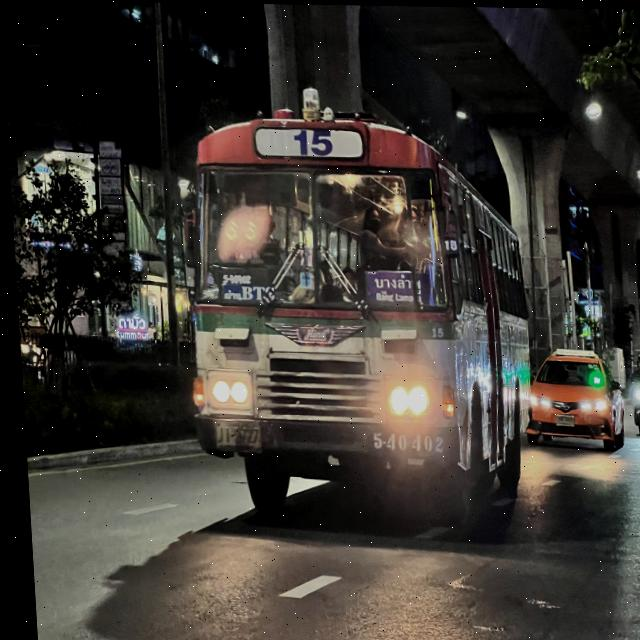BMTA-bus: (166, 75, 538, 540)
Bus Line Number: (251, 127, 366, 159)
Bus Side Number: (363, 428, 442, 454)
Destination Sign: (359, 270, 428, 306)
